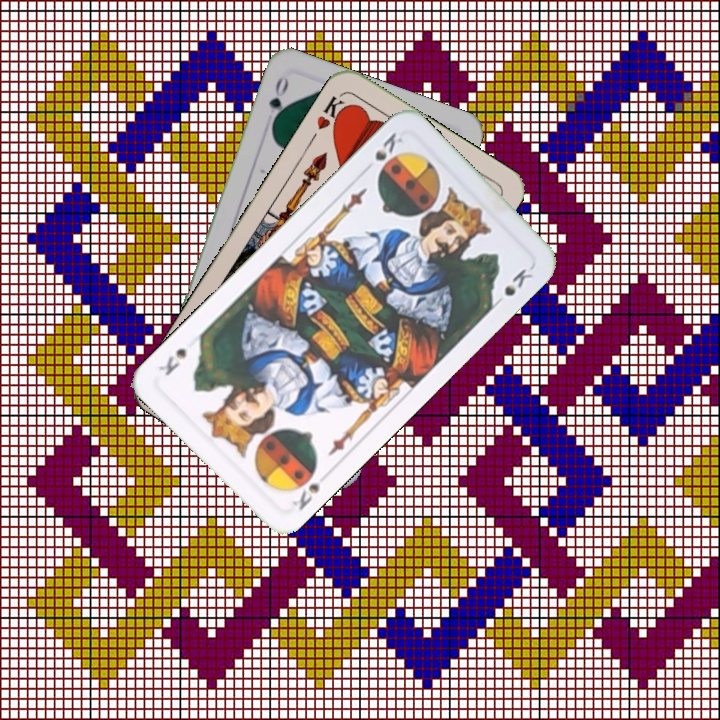GO: (265, 72, 292, 130)
HK: (312, 90, 352, 134)
SK: (359, 128, 406, 175), (288, 479, 323, 513)
